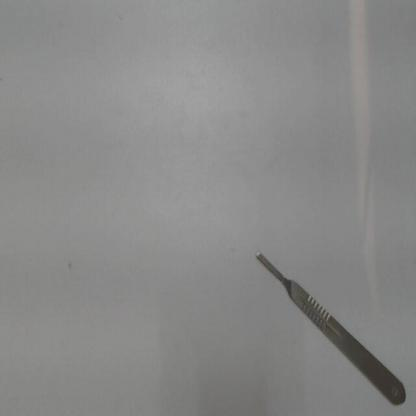No.4 BP Handle: (248, 231, 410, 410)
